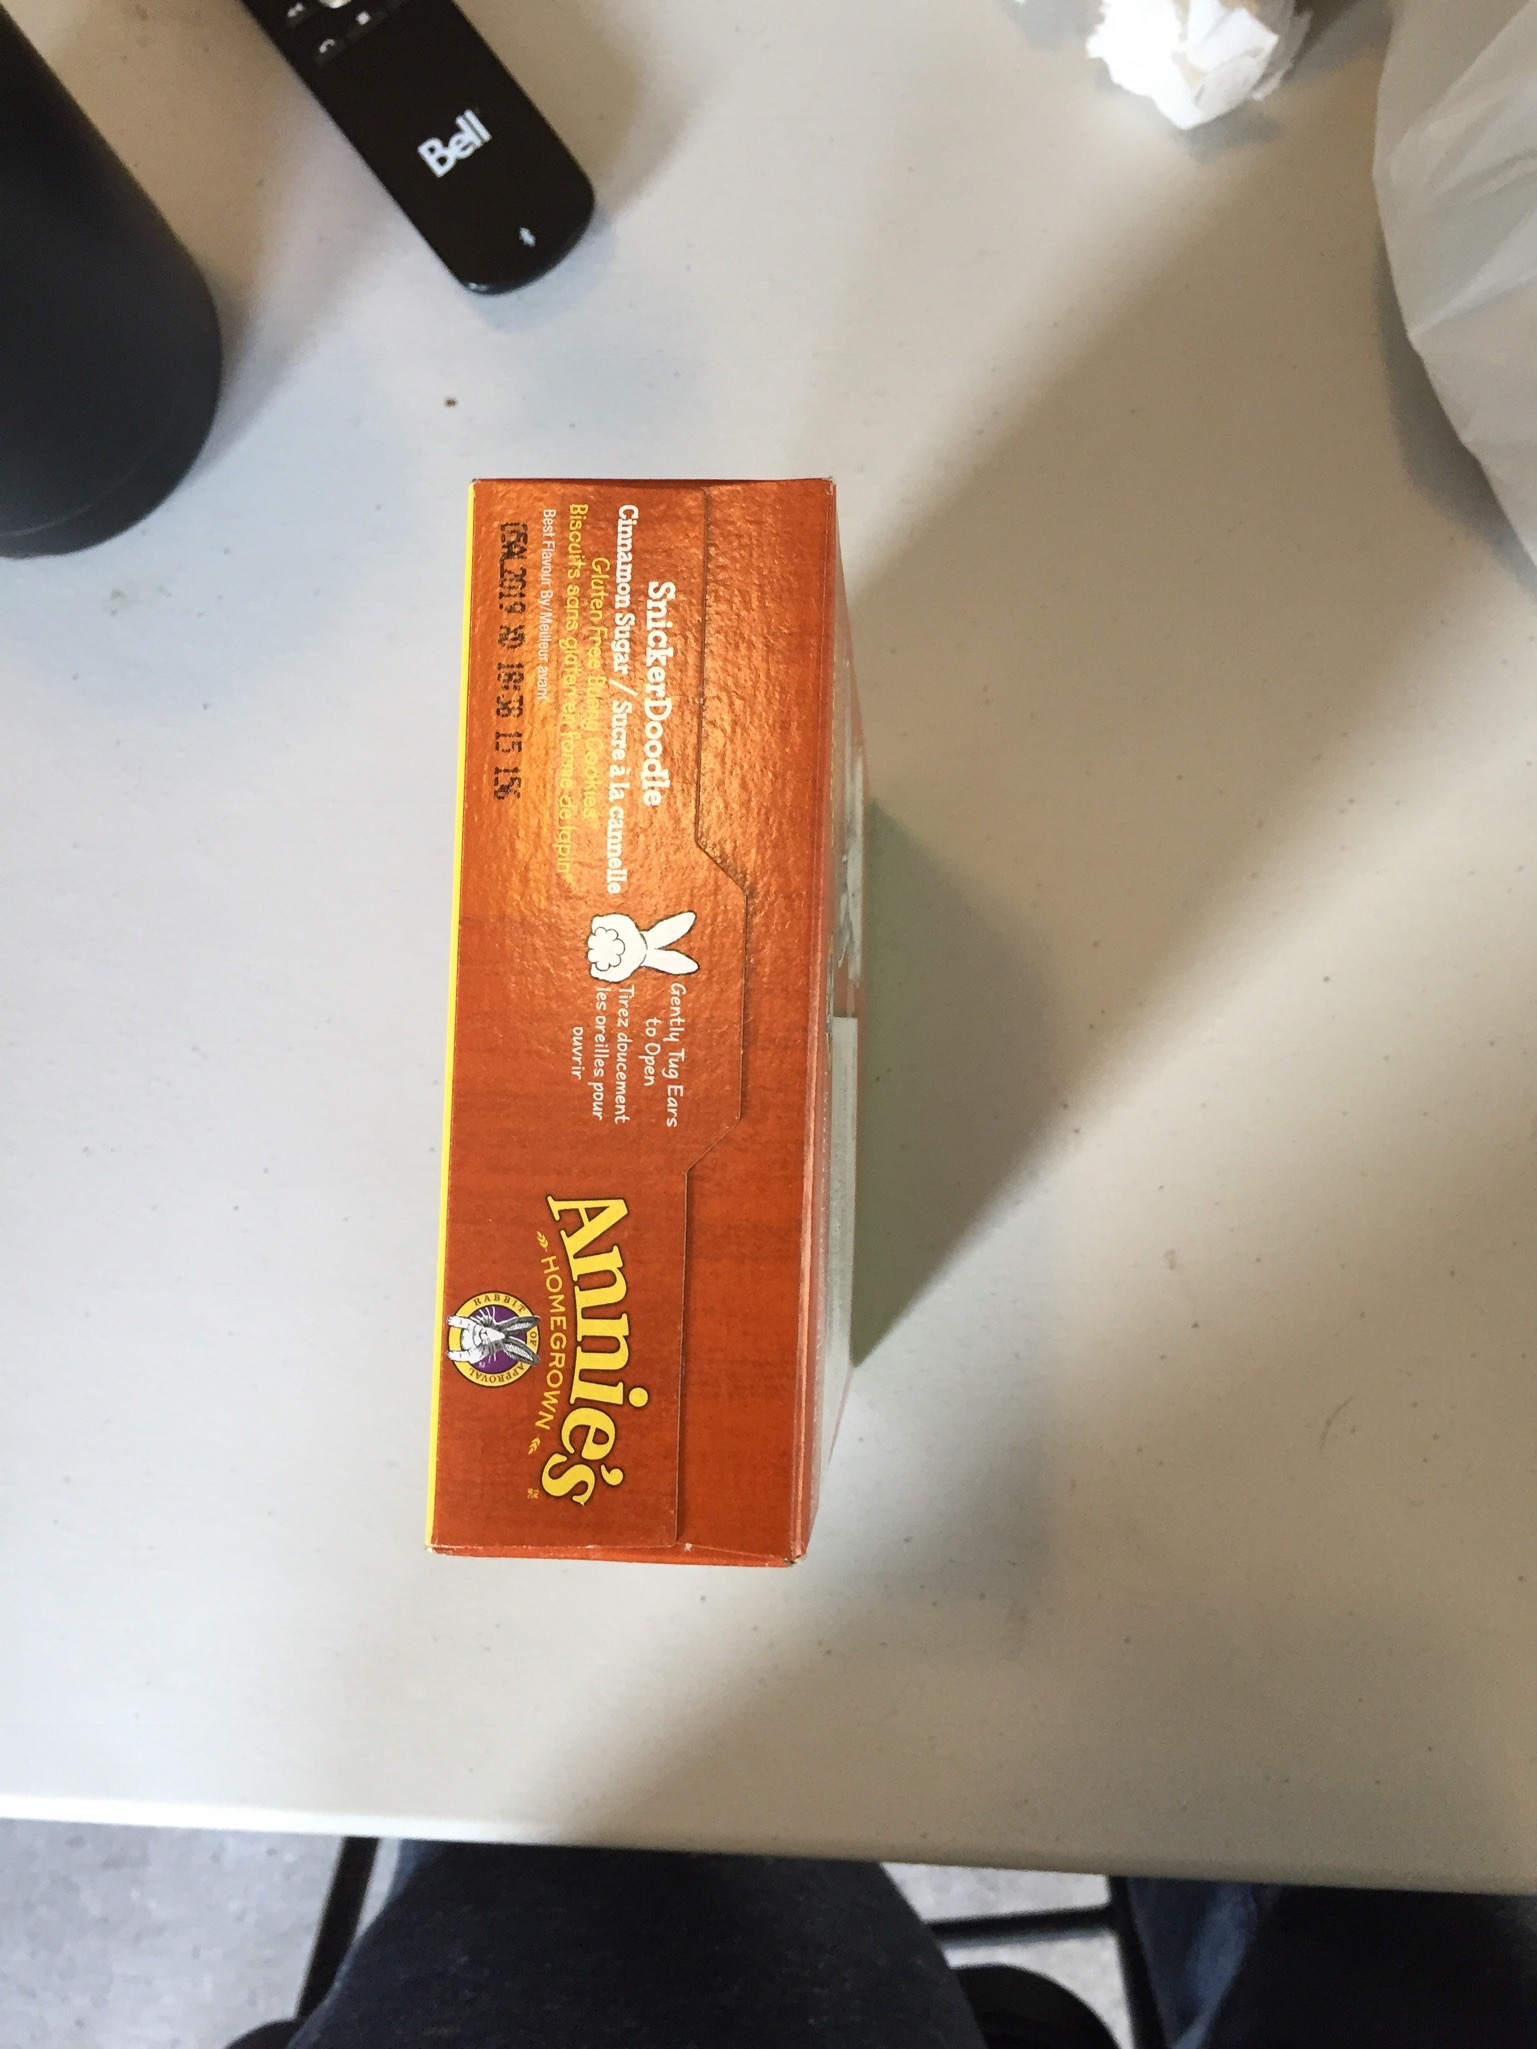annies_snickerdoodles_cinnamon_sugar: (478, 488, 822, 1557)
